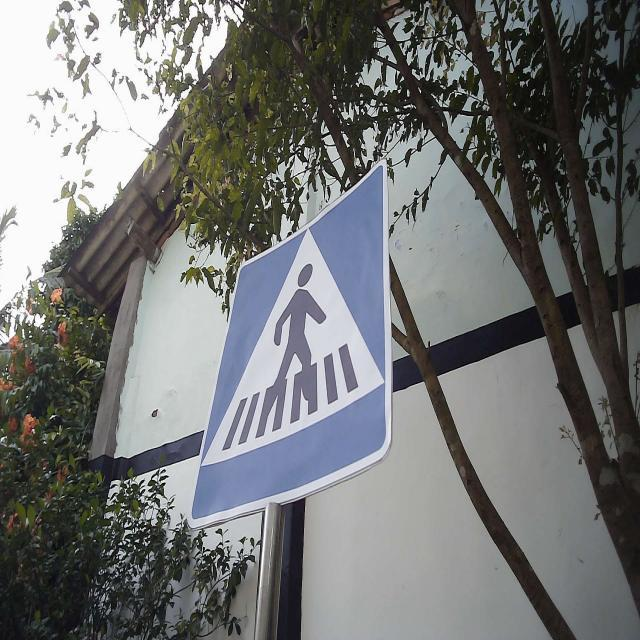crosswalk_sign: (186, 155, 394, 532)
